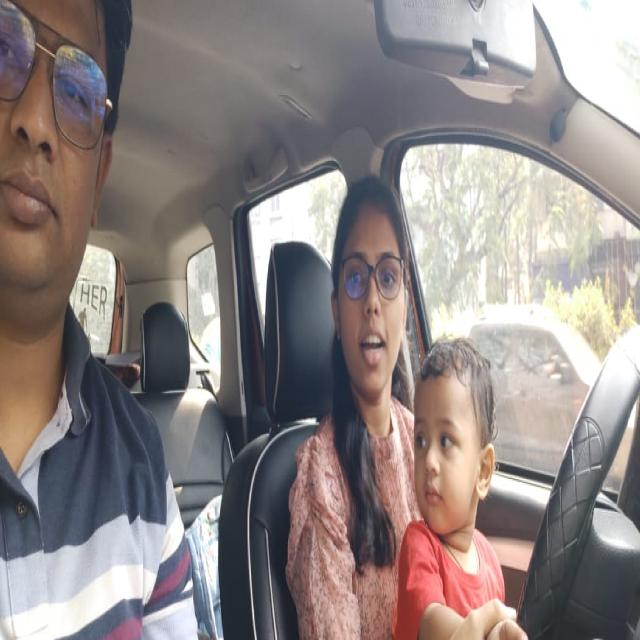child: (410, 333, 497, 552)
person: (2, 0, 144, 340), (327, 164, 413, 389)
